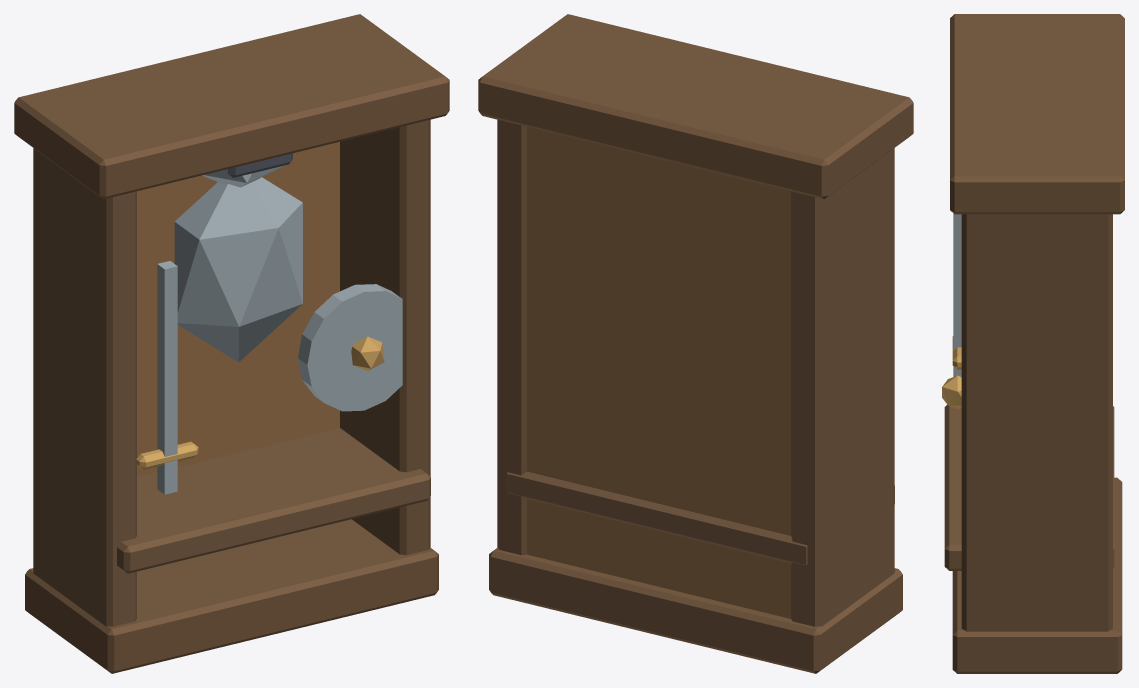
Rendered from equipment.glb.
3 renders of one model, left to right at view 1: azimuth 30°, elevation 25°; view 2: azimuth 150°, elevation 25°; view 3: azimuth 270°, elevation 25°, orthographic. The views are drawn at different scales.
Visible parts, largest first — view 1: Structure_HV_oak, Structure_HV_armor, Structure_HV_door, Structure_HV_brass, Structure_HV_iron; view 2: Structure_HV_oak, Structure_HV_door; view 3: Structure_HV_oak, Structure_HV_armor, Structure_HV_brass.
Boxes of the visible parts, <box> form: Structure_HV_oak: <box>14,14,449,673</box>; Structure_HV_armor: <box>157,165,402,494</box>; Structure_HV_door: <box>137,142,339,477</box>; Structure_HV_brass: <box>136,336,384,469</box>; Structure_HV_iron: <box>228,153,292,177</box>; Structure_HV_oak: <box>478,14,913,673</box>; Structure_HV_door: <box>527,127,790,618</box>; Structure_HV_oak: <box>944,14,1124,673</box>; Structure_HV_armor: <box>953,213,961,376</box>; Structure_HV_brass: <box>942,336,961,408</box>.
Size of the model in its own units: 1.48 by 2.09 by 0.6895.
